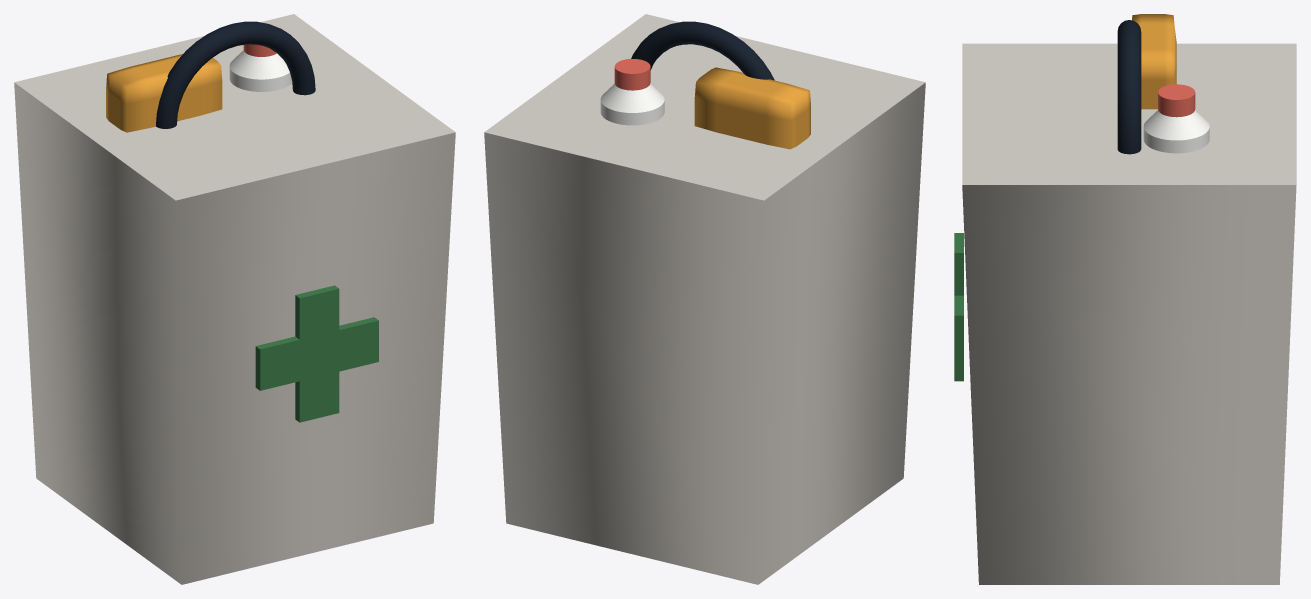
The model's file is ph_orders.glb.
3 views of the same model, side by side, from view 1: azimuth 30°, elevation 25°; view 2: azimuth 150°, elevation 25°; view 3: azimuth 270°, elevation 25° (orthographic). The views are drawn at different scales.
Parts seen in each view (by area): view 1: ph_orders; view 2: ph_orders; view 3: ph_orders.
Boxes of the visible parts, <box> form: ph_orders: <box>14,14,455,584</box>; ph_orders: <box>484,14,925,584</box>; ph_orders: <box>954,14,1296,584</box>.
Bounding box in the file's own units: 1.41 × 2.3 × 1.45.
